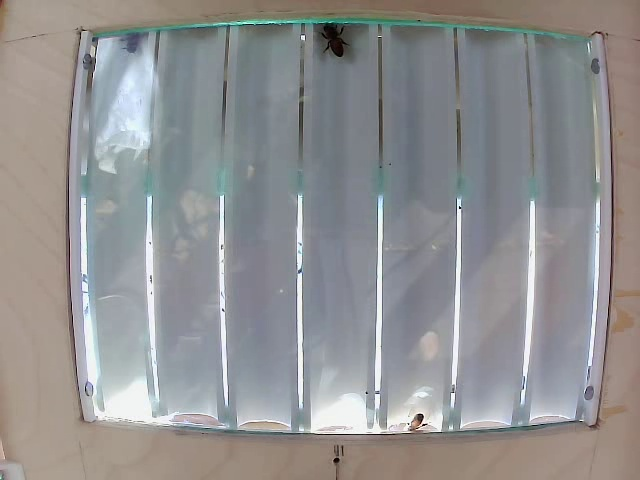bee: (314, 22, 353, 69), (403, 400, 432, 435)
